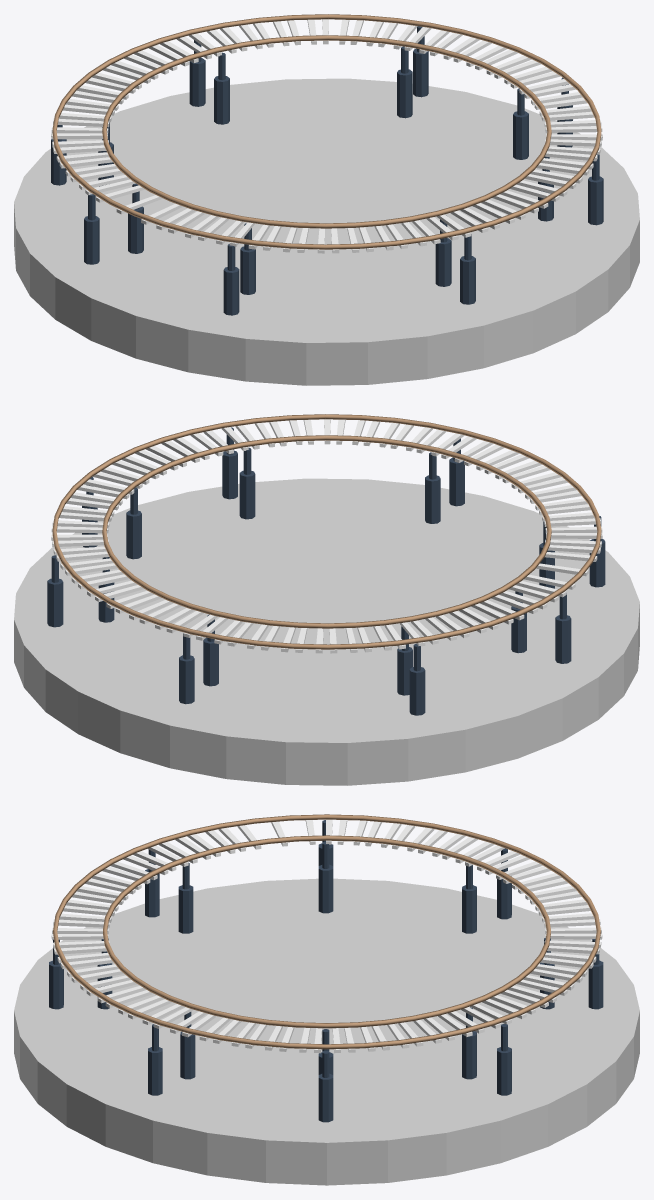
The model's file is RC_Playground_06.fbx.
3 views of the same model, one above another, from view 1: azimuth 30°, elevation 25°; view 2: azimuth 150°, elevation 25°; view 3: azimuth 270°, elevation 25° (orthographic).
Parts seen in each view (by area): view 1: Cylinder.001, RailStep.013, Path.014, Columns.012; view 2: Cylinder.001, RailStep.013, Path.014, Columns.012; view 3: Cylinder.001, RailStep.013, Path.014, Columns.012.
Boxes of the visible parts, x1,y1,x2,y2 form: Cylinder.001: (14,78,639,385); RailStep.013: (51,19,602,253); Path.014: (52,14,601,249); Columns.012: (51,26,603,315); Cylinder.001: (14,478,639,785); RailStep.013: (51,419,602,653); Path.014: (52,414,601,649); Columns.012: (47,427,605,715); Cylinder.001: (14,878,639,1185); RailStep.013: (51,819,602,1053); Path.014: (53,814,600,1049); Columns.012: (49,820,603,1122).
Bounding box in the file's own units: 2661 × 578 × 2661.
